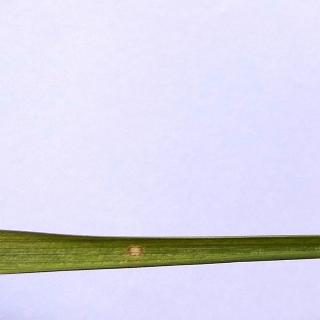Blast: (124, 240, 149, 263)
